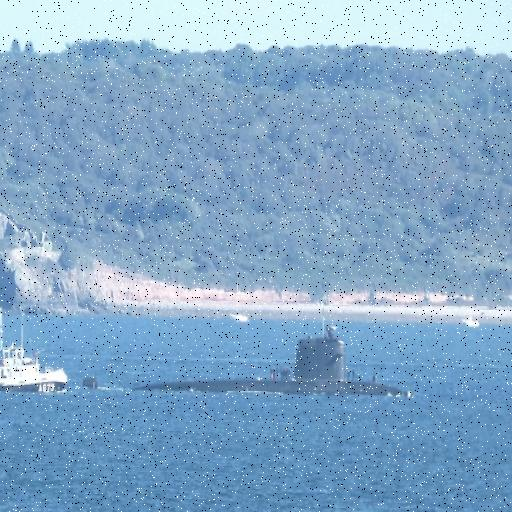submarine: (136, 337, 433, 392)
